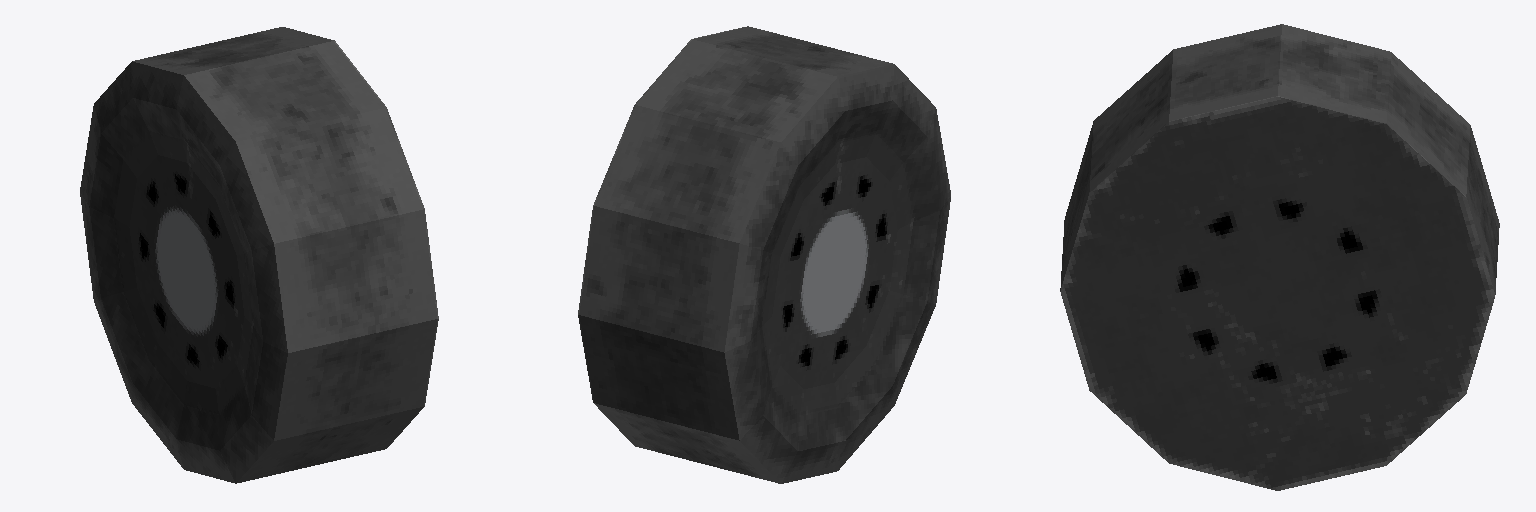
The picture shows the model from 3 angles: view 1: azimuth 30°, elevation 25°; view 2: azimuth 150°, elevation 25°; view 3: azimuth 270°, elevation 25°; orthographic projection.
Visible parts, largest first — view 1: llanta3; view 2: llanta3; view 3: llanta3.
Part boxes in pixels (x1,y1,x2,y2): llanta3: (80, 27, 438, 483); llanta3: (578, 26, 950, 483); llanta3: (1060, 24, 1499, 490).
Size of the model in its own units: 1.84 by 4.22 by 4.26.
1 materials, 1 textured.